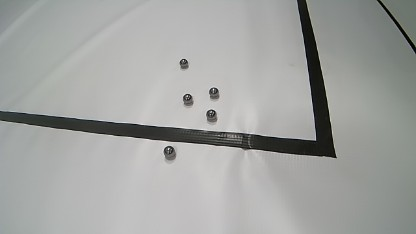ironball: (163, 145, 176, 160), (208, 87, 219, 99), (182, 93, 193, 105), (206, 109, 217, 121), (179, 58, 188, 68)
